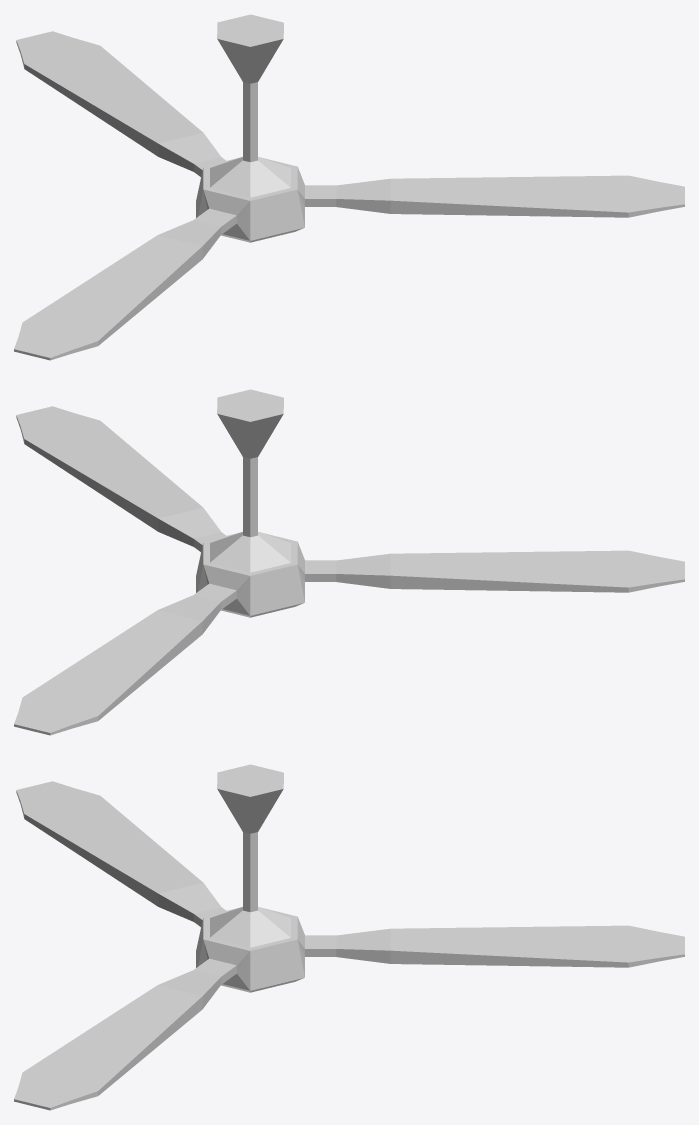
The model's file is ceiling_fan_01.glb.
3 renders of one model, top to bottom at view 1: azimuth 30°, elevation 25°; view 2: azimuth 150°, elevation 25°; view 3: azimuth 270°, elevation 25°, orthographic.
Visible parts, largest first — view 1: Cylinder.001; view 2: Cylinder.001; view 3: Cylinder.001.
Boxes of the visible parts, left/top/right/bottom form: Cylinder.001: left=14, top=14, right=684, bottom=360; Cylinder.001: left=14, top=389, right=684, bottom=735; Cylinder.001: left=14, top=764, right=684, bottom=1110.
Size of the model in its own units: 1.42 by 0.3855 by 1.23.
1 material, 1 textured.
